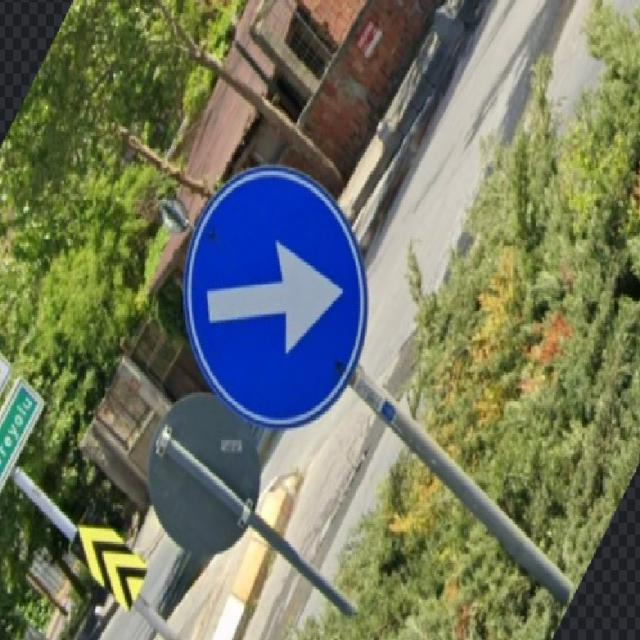Turn Right: (184, 174, 367, 425)
